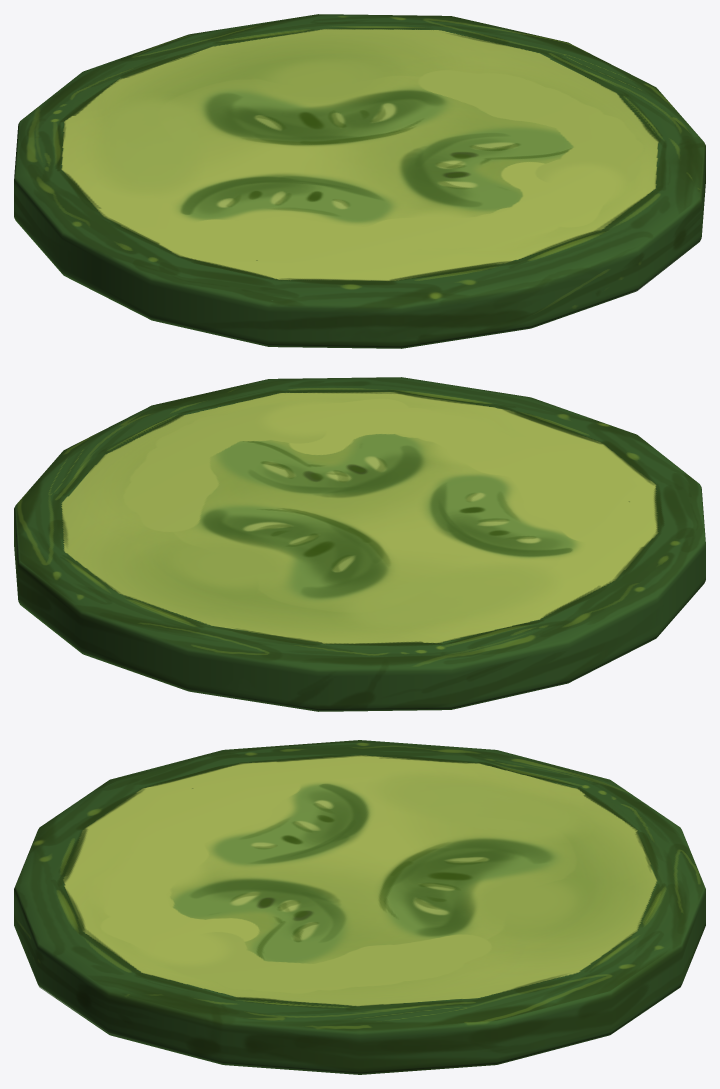
Rendered from Pepino.fbx.
3 renders of one model, top to bottom at view 1: azimuth 30°, elevation 25°; view 2: azimuth 150°, elevation 25°; view 3: azimuth 270°, elevation 25°, orthographic.
Visible parts, largest first — view 1: Cube; view 2: Cube; view 3: Cube.
Part boxes in pixels (box(x1,y1,x2,y2)): Cube: box(14, 14, 705, 348); Cube: box(14, 377, 705, 711); Cube: box(14, 740, 705, 1074).
Bounding box in the file's own units: 183 × 18.14 × 183.
1 material, 1 textured.
